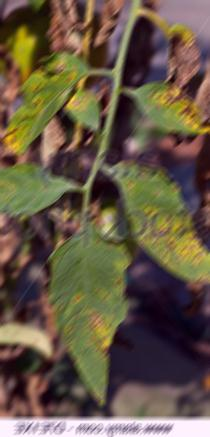Tomato Septoria leaf spot: (40, 214, 134, 409), (116, 155, 210, 292), (0, 44, 96, 153), (119, 78, 210, 141), (0, 155, 74, 229)
